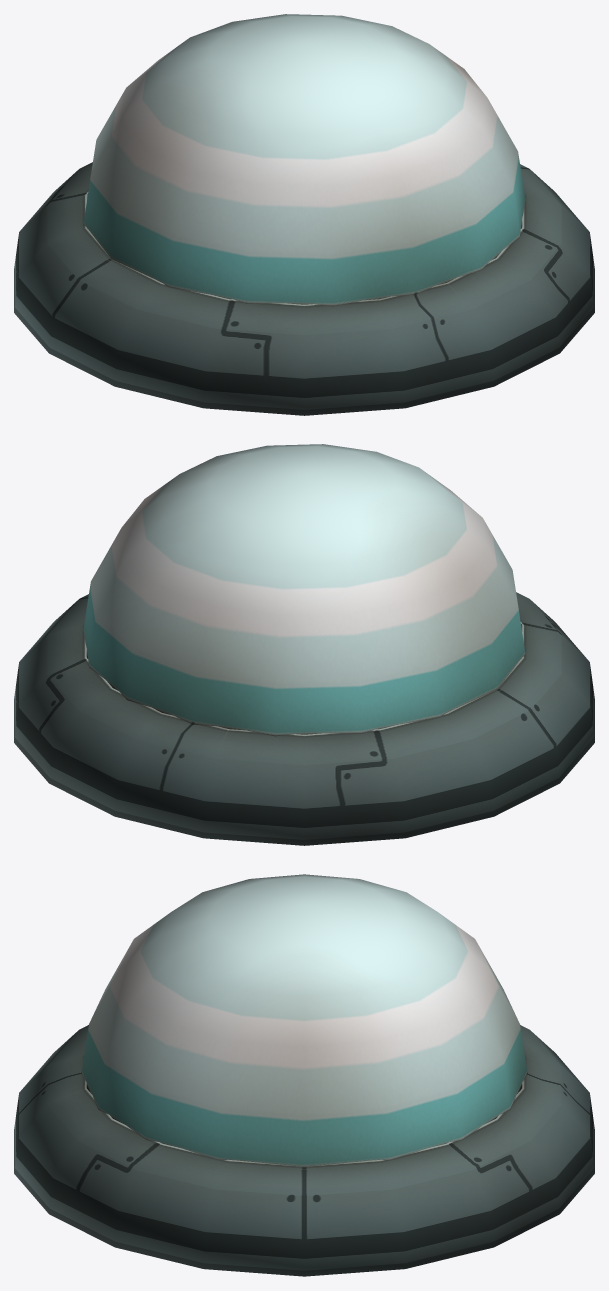
3 views of the same model, one above another, from view 1: azimuth 30°, elevation 25°; view 2: azimuth 150°, elevation 25°; view 3: azimuth 270°, elevation 25° (orthographic).
Visible parts, largest first — view 1: S018; view 2: S018; view 3: S018.
Boxes of the visible parts, x1,y1,x2,y2 form: S018: [14, 14, 594, 415]; S018: [14, 444, 594, 845]; S018: [14, 874, 594, 1276].
Bounding box in the file's own units: 28.5 × 14.17 × 28.07.
Materials: 1 (1 with a texture image).
